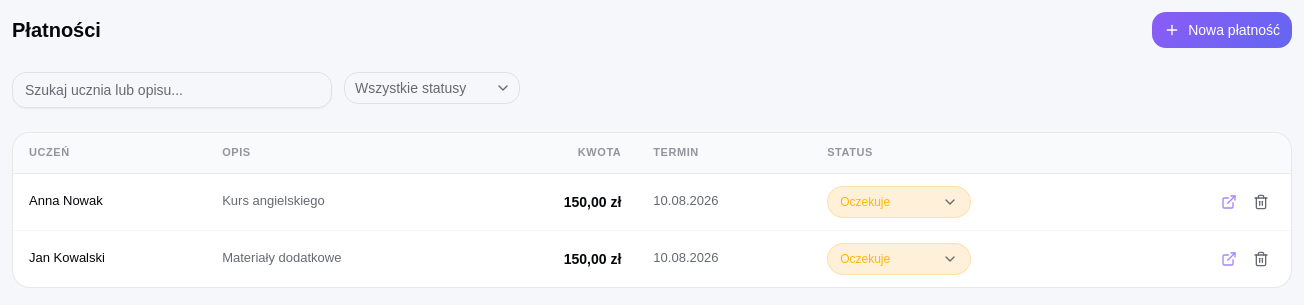
Scenario: PaymentsPage › wyszukiwarka › filtruje po nazwisku ucznia
Type "Kowalski" into the field with placeholder "Szukaj ucznia lub opisu...".
click(172, 90); type("Kowalski")  # box [12,72,332,108]
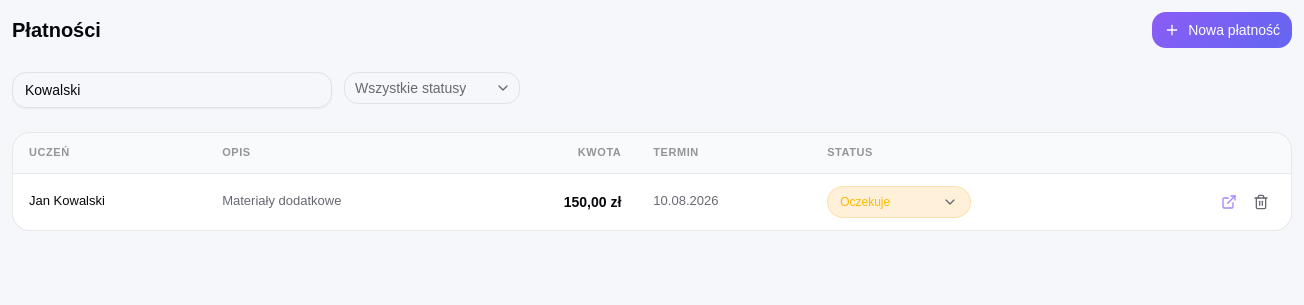
Expected: the text "Materiały dodatkowe" is shown, [206,173,477,230]
Expected: the text "Kurs angielskiego" is gone
